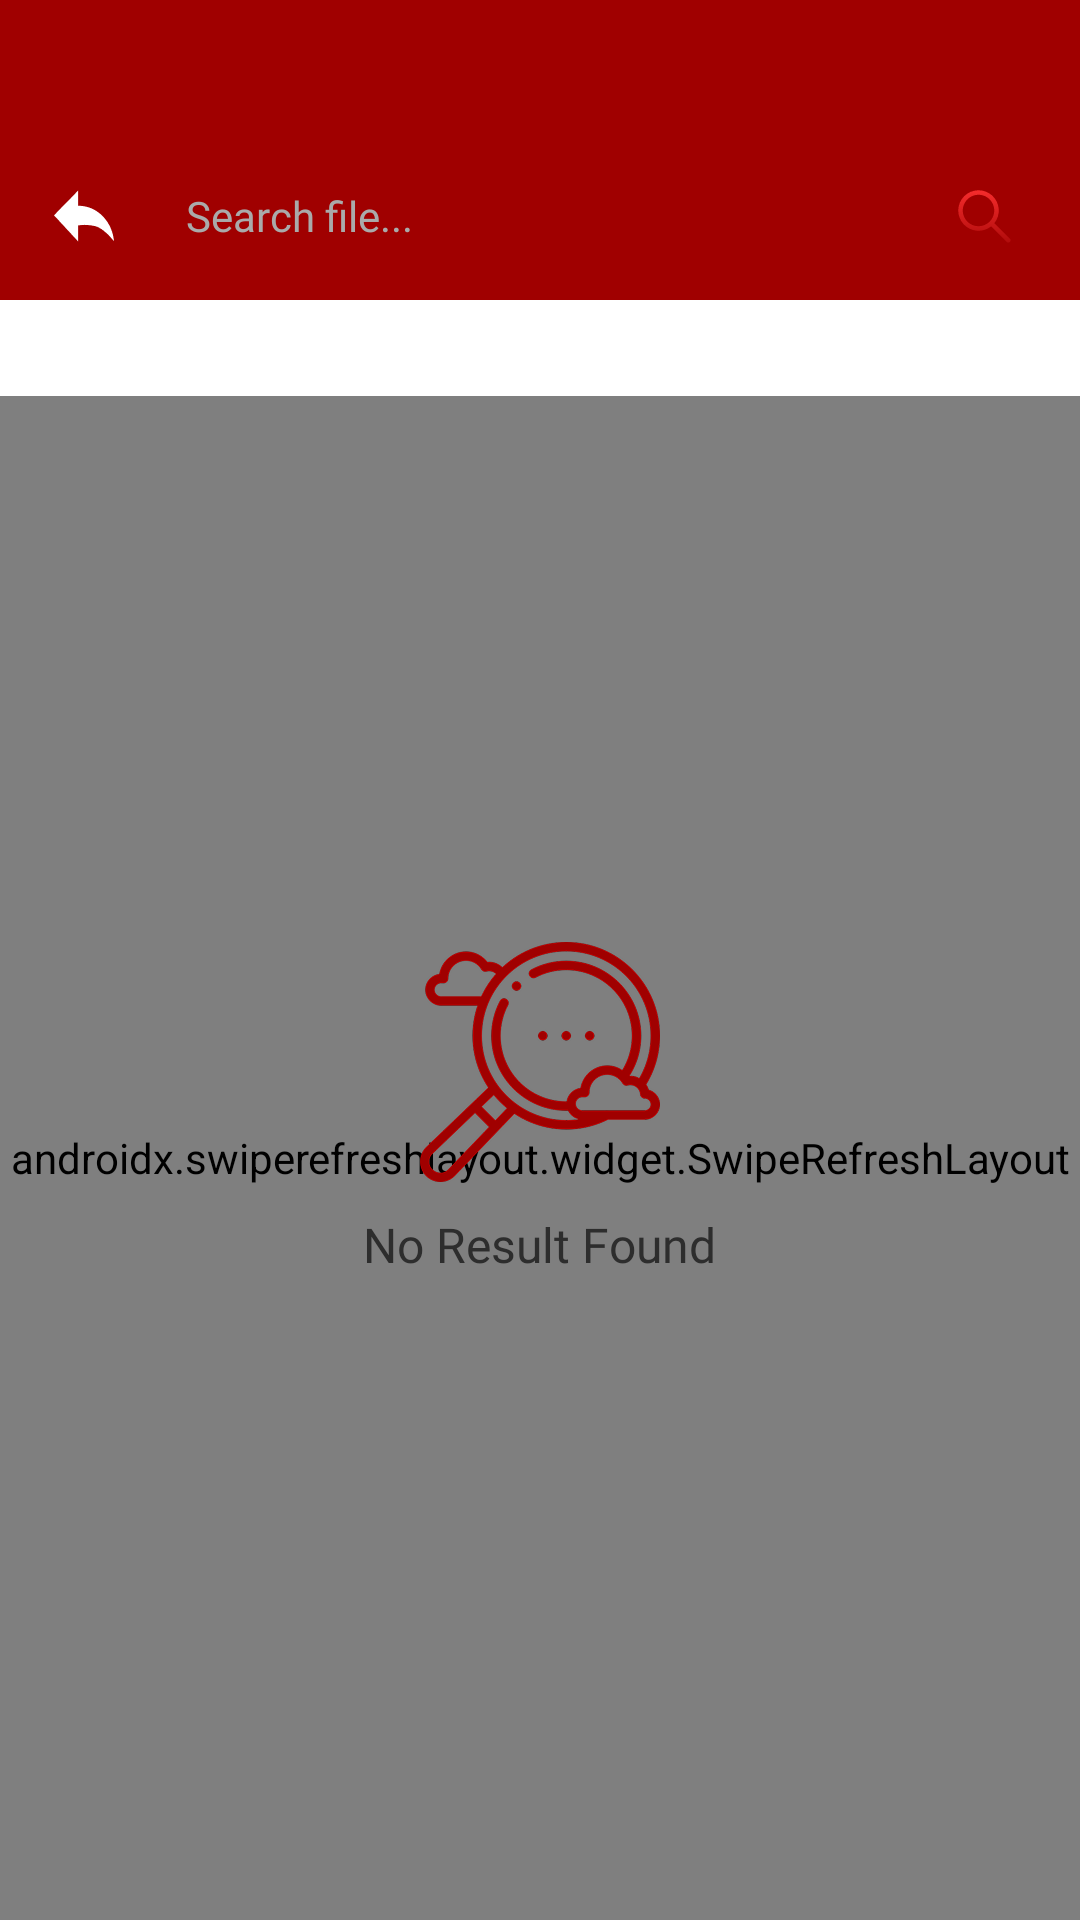

Icon bounding boxes for this 1080×1920 phone screenshot, format box=[x1, y1, x2, y2]:
back: box=[54, 191, 114, 241]
